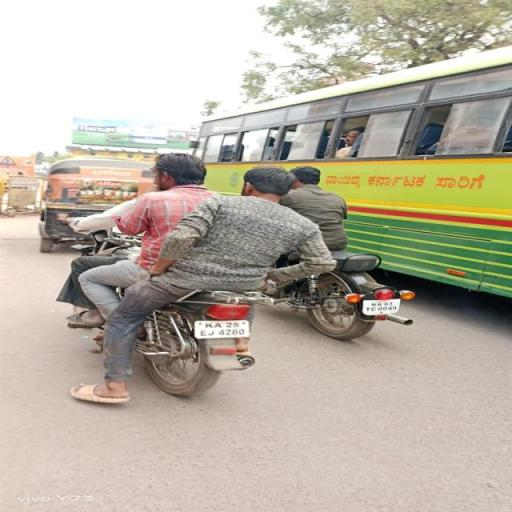tripple riding: (60, 148, 338, 293)
